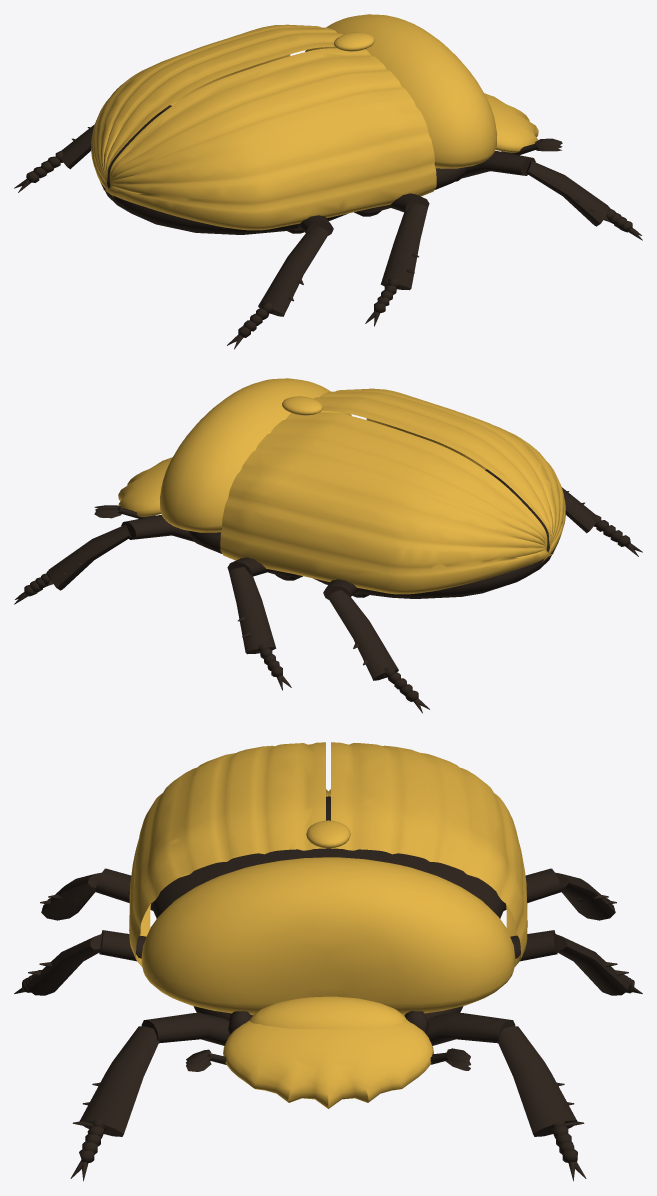
The model's file is SM_Critter_L1.glb.
3 views of the same model, one above another, from view 1: azimuth 30°, elevation 25°; view 2: azimuth 150°, elevation 25°; view 3: azimuth 270°, elevation 25° (orthographic). The views are drawn at different scales.
Visible parts, largest first — view 1: SM_Critter; view 2: SM_Critter; view 3: SM_Critter.
Part boxes in pixels (x1,y1,x2,y2): SM_Critter: [14, 14, 642, 349]; SM_Critter: [14, 378, 642, 713]; SM_Critter: [14, 742, 642, 1181].
Bounding box in the file's own units: 1.63 × 0.63 × 1.55.
